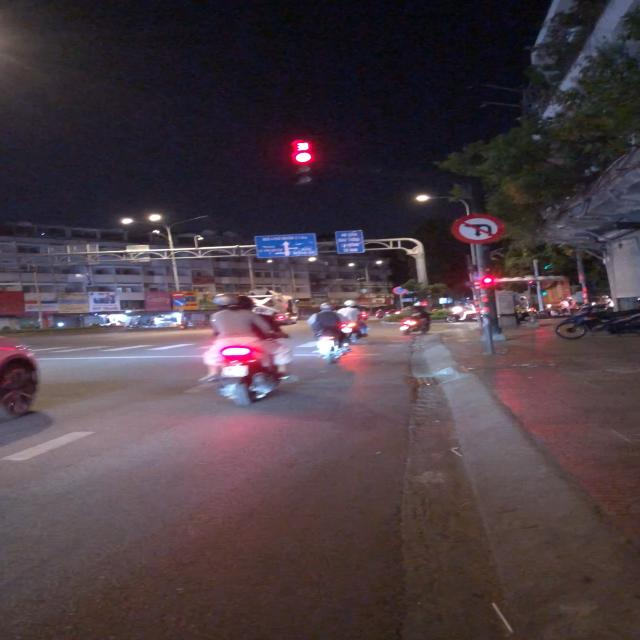Bien bao cam re trai va quay dau: (451, 213, 506, 245)
